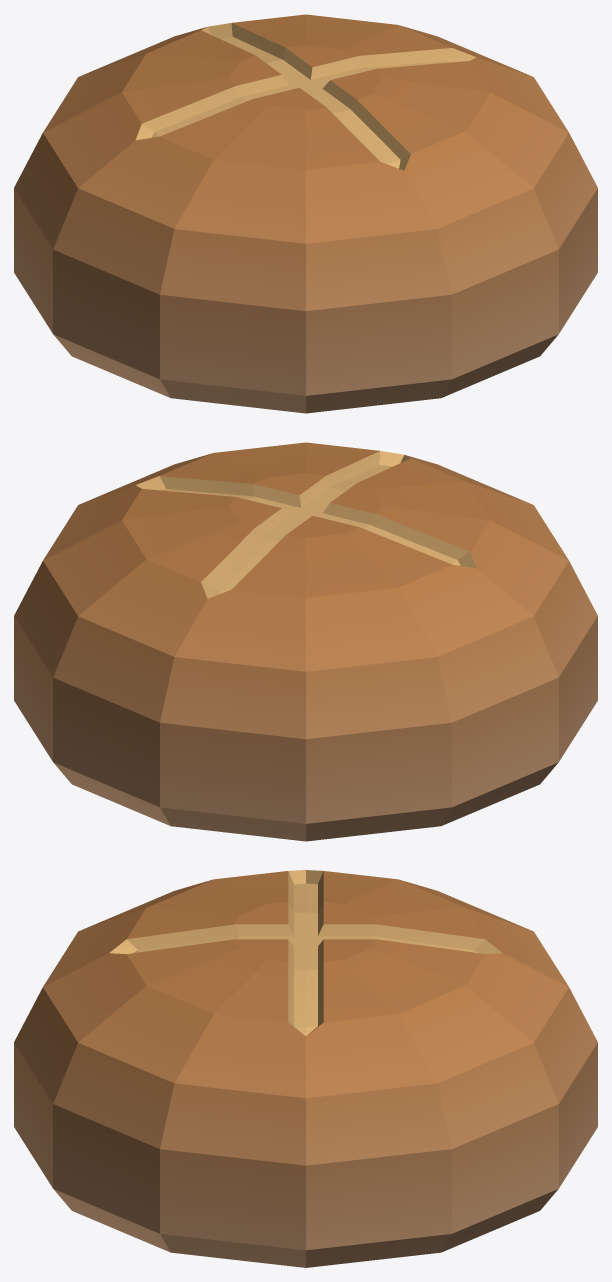
The model's file is bread.glb.
3 renders of one model, top to bottom at view 1: azimuth 30°, elevation 25°; view 2: azimuth 150°, elevation 25°; view 3: azimuth 270°, elevation 25°, orthographic.
Parts seen in each view (by area): view 1: bread; view 2: bread; view 3: bread.
Part boxes in pixels (x1,y1,x2,y2): bread: (14,14,597,413); bread: (14,442,597,841); bread: (14,870,597,1267).
Bounding box in the file's own units: 0.3737 × 0.1644 × 0.3737.
1 material, 1 textured.
